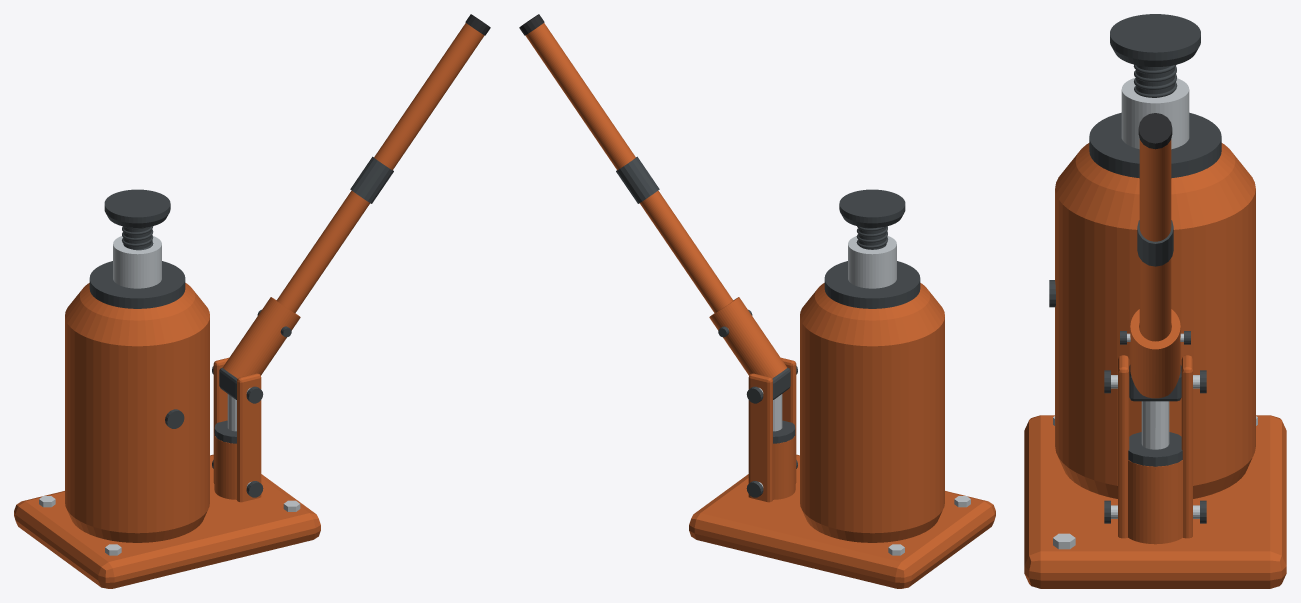
The model's file is A-NEW-20261026-BOTTLE-JACK-001_LOD1_R3.fbx.
3 renders of one model, left to right at view 1: azimuth 30°, elevation 25°; view 2: azimuth 150°, elevation 25°; view 3: azimuth 270°, elevation 25°, orthographic. The views are drawn at different scales.
Visible parts, largest first — view 1: closed oil reservoir, rounded load base, assembled tubular handle, open handle socket, ram retaining collar, pump pivot cheek, flat circular saddle, supported polished ram, pump cylinder, handle section coupling, pump pivot cheek.001; view 2: closed oil reservoir, rounded load base, assembled tubular handle, open handle socket, ram retaining collar, pump pivot cheek.001, flat circular saddle, supported polished ram, pump cylinder, handle section coupling, pump pivot cheek; view 3: closed oil reservoir, rounded load base, assembled tubular handle, ram retaining collar, pump cylinder, flat circular saddle, open handle socket, supported polished ram, pump pivot cheek, pump pivot cheek.001, pump plunger, pump top seal (+5 smaller).
Part boxes in pixels (x1,y1,x2,y2): closed oil reservoir: [65, 283, 209, 542]; rounded load base: [14, 454, 320, 588]; assembled tubular handle: [276, 23, 484, 313]; open handle socket: [222, 297, 300, 378]; ram retaining collar: [89, 261, 185, 308]; pump pivot cheek: [237, 373, 261, 502]; flat circular saddle: [104, 189, 170, 227]; supported polished ram: [113, 236, 161, 288]; pump cylinder: [214, 434, 236, 499]; handle section coupling: [350, 156, 393, 203]; pump pivot cheek.001: [213, 357, 228, 483]; closed oil reservoir: [800, 283, 944, 542]; rounded load base: [689, 454, 995, 588]; assembled tubular handle: [525, 23, 733, 313]; open handle socket: [709, 297, 787, 378]; ram retaining collar: [824, 261, 920, 308]; pump pivot cheek.001: [748, 373, 772, 502]; flat circular saddle: [839, 189, 905, 227]; supported polished ram: [848, 236, 896, 288]; pump cylinder: [773, 434, 795, 499]; handle section coupling: [616, 156, 659, 203]; pump pivot cheek: [781, 357, 796, 483]; closed oil reservoir: [1055, 143, 1255, 498]; rounded load base: [1024, 415, 1286, 588]; assembled tubular handle: [1139, 139, 1171, 341]; ram retaining collar: [1089, 112, 1221, 178]; pump cylinder: [1128, 460, 1182, 544]; flat circular saddle: [1110, 14, 1200, 66]; open handle socket: [1130, 309, 1180, 398]; supported polished ram: [1121, 77, 1189, 149]; pump pivot cheek: [1118, 355, 1129, 538]; pump pivot cheek.001: [1181, 355, 1192, 538]; pump plunger: [1141, 401, 1169, 449]; pump top seal: [1128, 432, 1182, 466].
Size of the model in its own units: 30.24 by 29.69 by 11.5.
